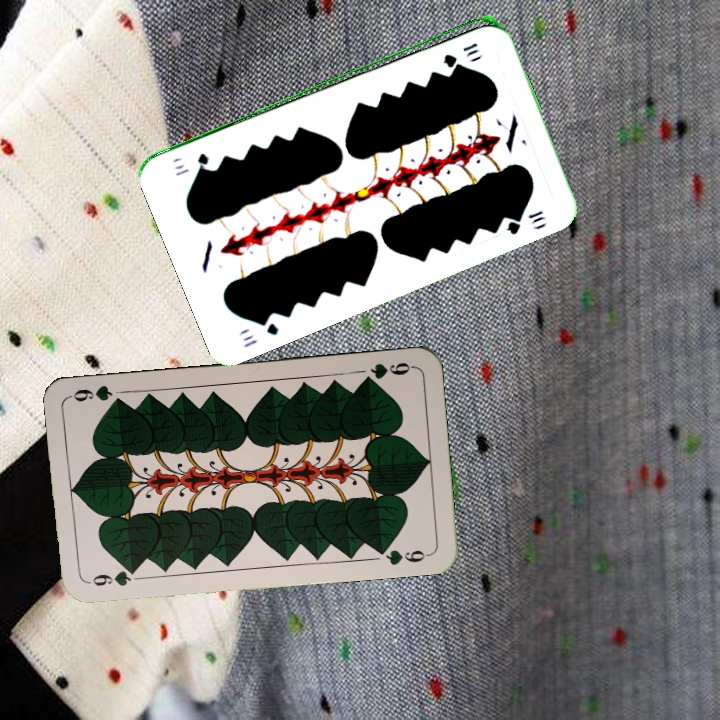G10: (238, 312, 281, 350), (439, 38, 481, 67)
G9: (358, 358, 416, 386), (84, 565, 140, 589)
